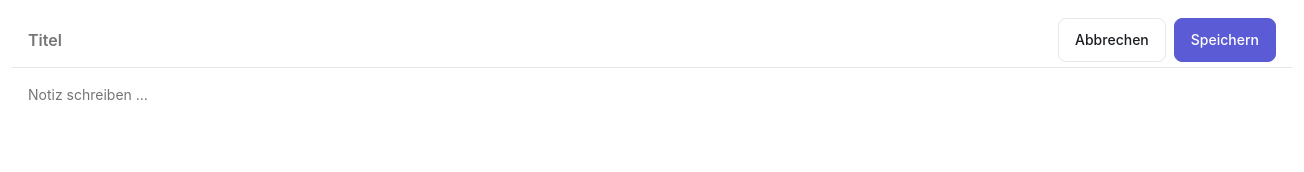
Test: NoteEditor validation (AC-12) › reveals a field hint once that field was touched
The image size is (1304, 172).
Step 1. Type "a" into the field with test id "editor-title" → (539, 40), box [28,20,1050,60]
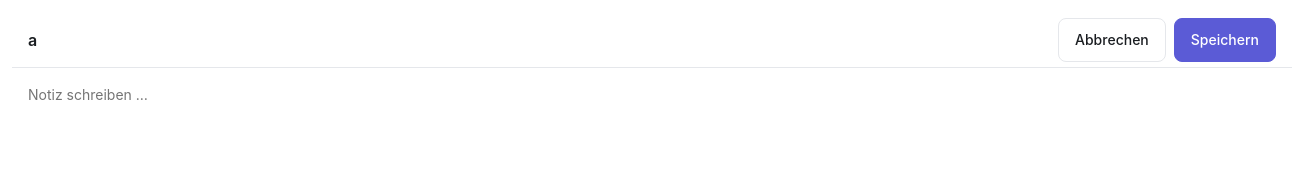
Step 2. Clear the field with test id "editor-title" → (539, 40), box [28,20,1050,60]
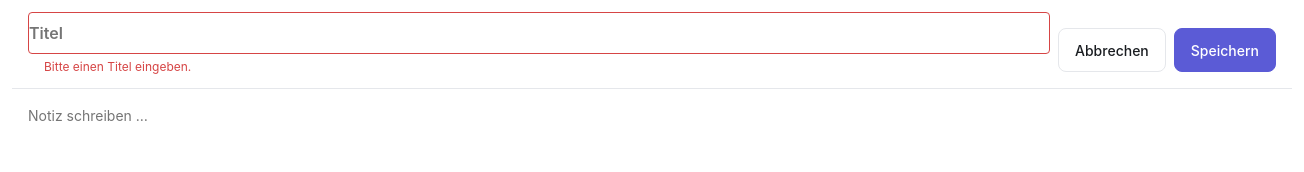
Now the message "Bitte einen Titel eingeben." is shown, box [44,59,191,74]
